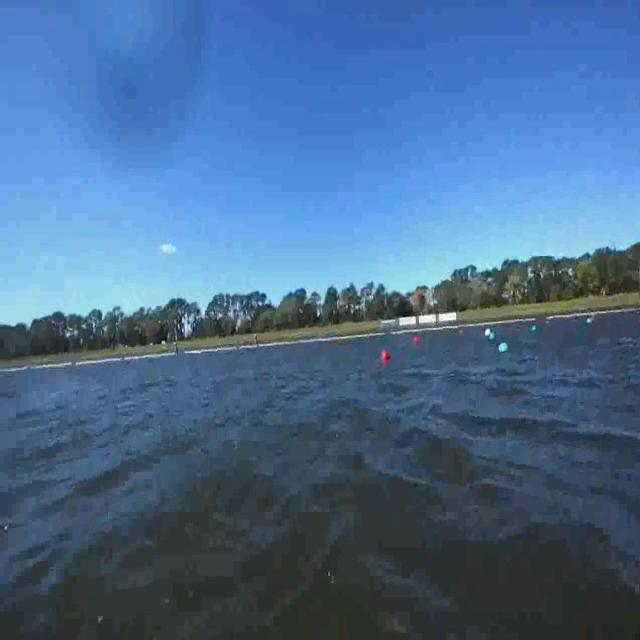green-buoy: (498, 343, 509, 354), (490, 329, 497, 345)
red-buoy: (412, 333, 422, 350), (382, 350, 390, 362)
